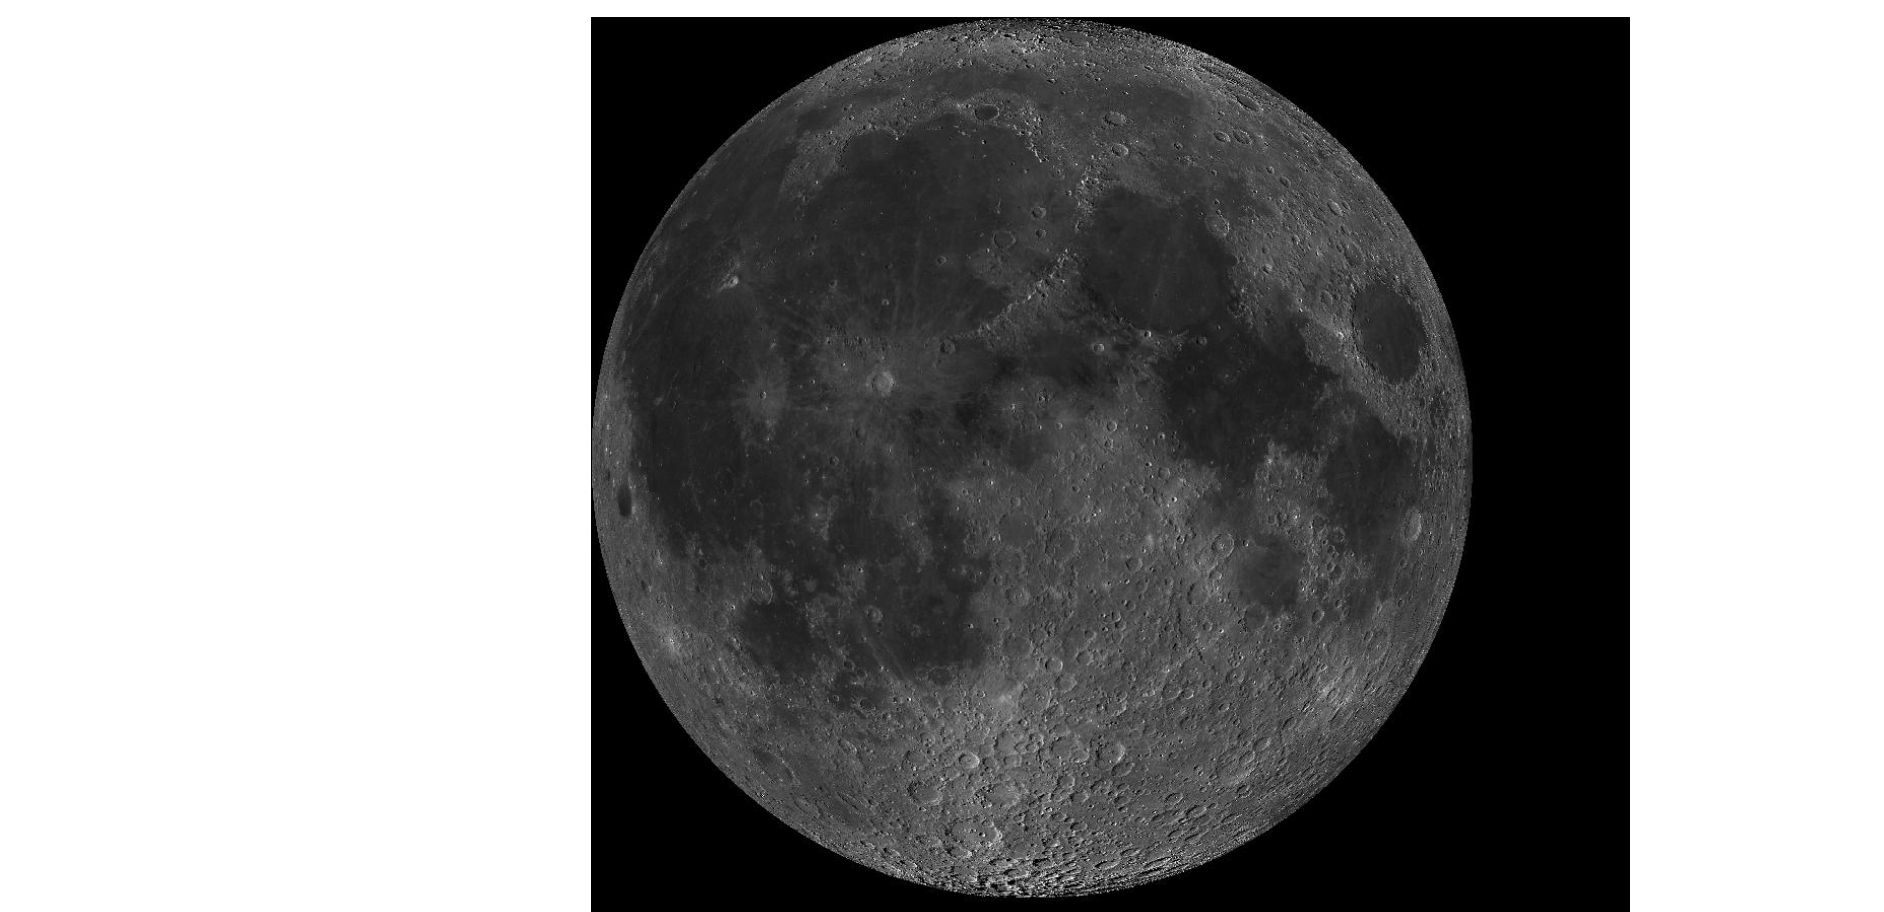crater: (1068, 187, 1250, 340), (1345, 266, 1427, 403), (842, 344, 925, 429), (986, 503, 1047, 555), (746, 743, 809, 788), (738, 374, 787, 415), (743, 573, 781, 616), (1226, 87, 1266, 121), (983, 223, 1020, 261), (1399, 499, 1426, 548), (612, 478, 640, 525), (1204, 526, 1240, 564), (1001, 580, 1036, 614), (1200, 203, 1236, 236), (1322, 192, 1359, 222), (920, 663, 958, 693), (716, 264, 749, 298), (817, 446, 851, 478), (962, 100, 1003, 124), (1095, 105, 1135, 129), (948, 746, 983, 774), (1113, 549, 1147, 576), (931, 330, 958, 359), (860, 600, 886, 628), (1103, 141, 1134, 163), (1041, 652, 1066, 679), (929, 249, 950, 273), (1307, 606, 1329, 627), (1098, 413, 1121, 434), (1196, 616, 1218, 637), (900, 508, 920, 527), (837, 654, 855, 675), (1049, 416, 1067, 434), (1182, 359, 1197, 380), (807, 232, 822, 249)
